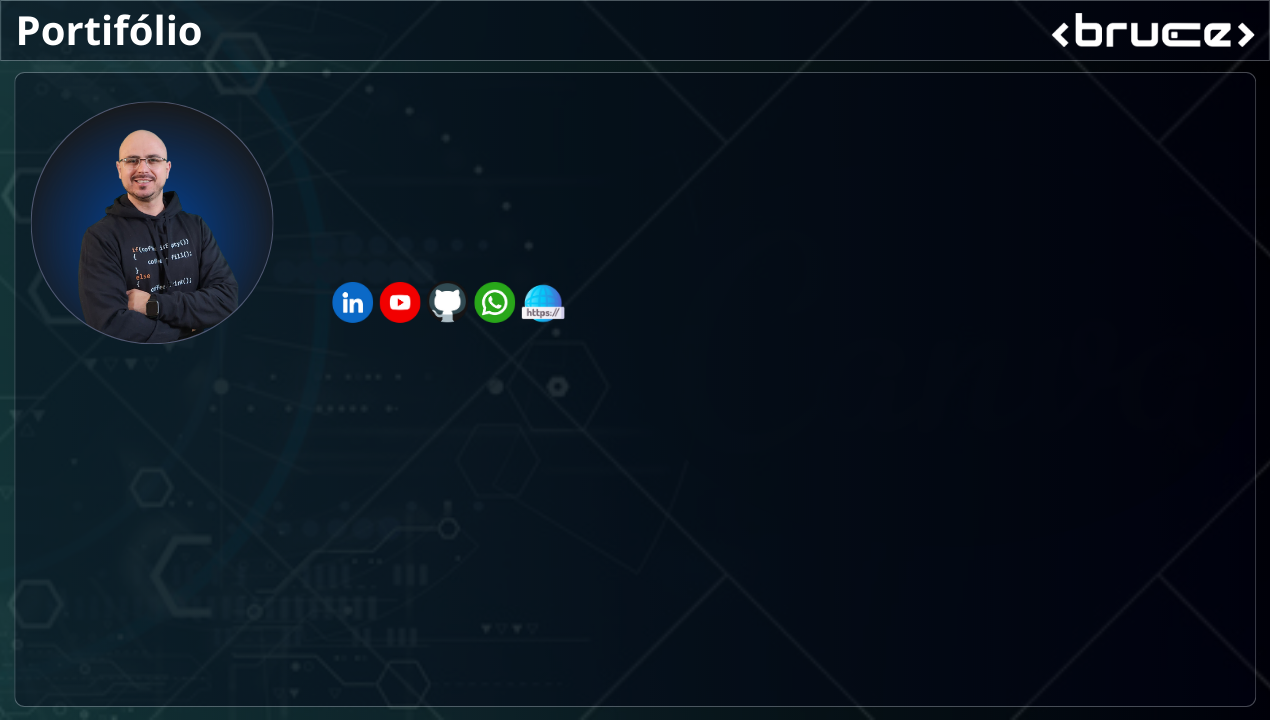

Layout of this report page (visuals, bound fields, positions):
{"tool":"powerbi","page":{"name":"Página 1","canvas":[1280,720],"ordinal":0},"visuals":[{"type":"textbox","box":[31.9,426.5,608.3,275.8],"z":0},{"type":"textbox","box":[325.4,117.9,314.8,287.3],"z":1},{"type":"image","box":[665,86,615.4,595],"z":2}]}

Visuals, with their boxes in screenshot pixels (x1, y1, x2, y2), scaled from the page's 1280x720 canvas onto the 1270x720 screenshot:
textbox: detection(32, 426, 635, 702)
textbox: detection(323, 118, 635, 405)
image: detection(660, 86, 1269, 681)
